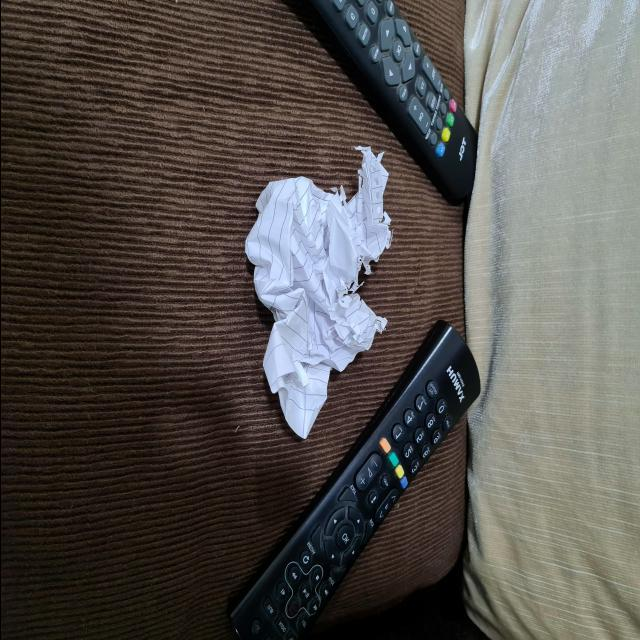Paper: (242, 135, 402, 436)
